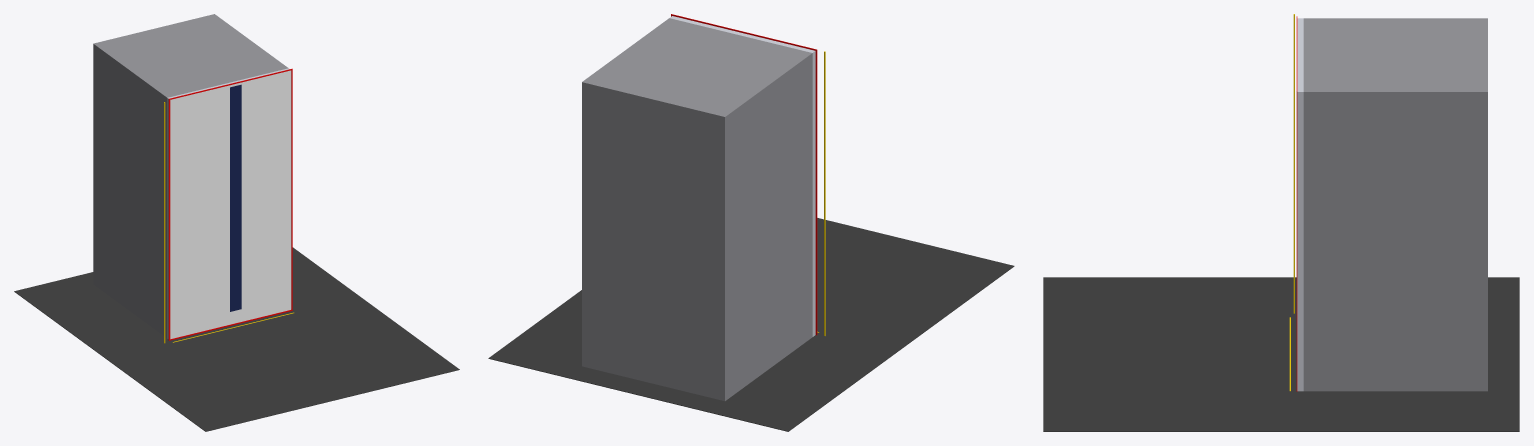
Rendered from hec_west_wall.obj.
3 views of the same model, side by side, from view 1: azimuth 30°, elevation 25°; view 2: azimuth 150°, elevation 25°; view 3: azimuth 270°, elevation 25° (orthographic). The views are drawn at different scales.
Parts seen in each view (by area): view 1: Ground, WEST_WALL_CANVAS_UV, Building_Mass, WINDOW_STRIP_mask, WEST_WALL, WALL_OUTLINE_Left, MARKER_Height_52m, WALL_OUTLINE_Right; view 2: Building_Mass, Ground, WEST_WALL, WALL_OUTLINE_Left, MARKER_Height_52m; view 3: Building_Mass, Ground, WEST_WALL, MARKER_Height_52m, WALL_OUTLINE_Right.
Part boxes in pixels (x1,y1,x2,y2): Ground: [14, 247, 459, 431]; WEST_WALL_CANVAS_UV: [170, 70, 291, 339]; Building_Mass: [93, 14, 288, 338]; WINDOW_STRIP_mask: [230, 84, 241, 311]; WEST_WALL: [167, 68, 289, 339]; WALL_OUTLINE_Left: [168, 100, 170, 340]; MARKER_Height_52m: [164, 102, 165, 343]; WALL_OUTLINE_Right: [291, 70, 292, 309]; Building_Mass: [582, 18, 812, 400]; Ground: [488, 218, 1014, 431]; WEST_WALL: [670, 16, 815, 336]; WALL_OUTLINE_Left: [815, 51, 817, 334]; MARKER_Height_52m: [824, 51, 825, 335]; Building_Mass: [1303, 18, 1487, 391]; Ground: [1043, 277, 1519, 431]; WEST_WALL: [1297, 18, 1303, 391]; MARKER_Height_52m: [1293, 14, 1294, 313]; WALL_OUTLINE_Right: [1296, 93, 1297, 389].
Bounding box in the file's own units: 57.43 × 52.35 × 75.
